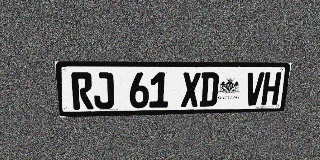1: (149, 72, 169, 108)
6: (129, 72, 149, 108)
D: (199, 72, 219, 107)
H: (261, 72, 282, 105)
J: (93, 72, 114, 109)
R: (71, 72, 94, 110)
V: (244, 72, 265, 106)
X: (181, 72, 201, 107)
